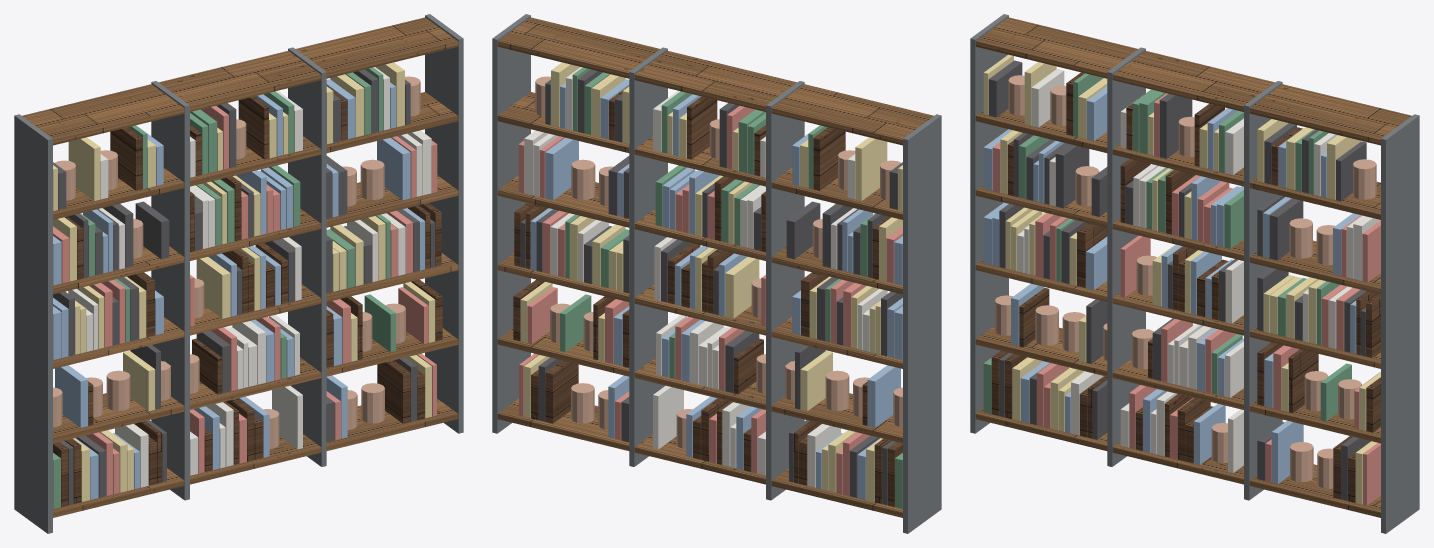
File: bookcase.glb
3 renders of one model, left to right at view 1: azimuth 30°, elevation 25°; view 2: azimuth 150°, elevation 25°; view 3: azimuth 330°, elevation 25°, orthographic.
Parts seen in each view (by area): view 1: bookcase_steel_d, bookcase_timber, bookcase_dkwood, bookcase_cloth_y, bookcase_cloth_b, bookcase_dark, bookcase_paper, bookcase_cloth_r, bookcase_pot, bookcase_paint_g; view 2: bookcase_steel_d, bookcase_timber, bookcase_dkwood, bookcase_cloth_y, bookcase_cloth_b, bookcase_dark, bookcase_paper, bookcase_cloth_r, bookcase_pot, bookcase_paint_g; view 3: bookcase_timber, bookcase_steel_d, bookcase_dark, bookcase_dkwood, bookcase_cloth_b, bookcase_cloth_y, bookcase_paper, bookcase_cloth_r, bookcase_pot, bookcase_paint_g.
Boxes of the visible parts, x1,y1,x2,y2 form: bookcase_steel_d: (14,14,463,533); bookcase_timber: (22,17,458,517); bookcase_dkwood: (53,86,442,506); bookcase_cloth_y: (53,62,435,501); bookcase_cloth_b: (53,79,425,499); bookcase_dark: (53,69,435,505); bookcase_paper: (68,67,431,487); bookcase_cloth_r: (53,106,437,495); bookcase_pot: (53,76,420,448); bookcase_paint_g: (53,67,395,508); bookcase_steel_d: (492,14,941,533); bookcase_timber: (497,17,933,517); bookcase_dkwood: (513,86,902,506); bookcase_cloth_y: (520,62,902,501); bookcase_cloth_b: (530,79,902,499); bookcase_dark: (520,69,902,505); bookcase_paper: (524,67,887,487); bookcase_cloth_r: (518,106,902,495); bookcase_pot: (535,76,902,448); bookcase_paint_g: (560,67,902,508); bookcase_timber: (975,17,1411,517); bookcase_steel_d: (970,14,1419,533); bookcase_dark: (988,60,1370,500); bookcase_dkwood: (991,72,1380,502); bookcase_cloth_b: (983,86,1359,483); bookcase_cloth_y: (983,54,1380,504); bookcase_paper: (1017,69,1380,472); bookcase_cloth_r: (992,93,1380,505); bookcase_pot: (995,75,1376,488); bookcase_paint_g: (983,73,1351,421).
Bounding box in the file's own units: 2.43 × 2.2 × 0.34.
10 materials, 2 textured.
